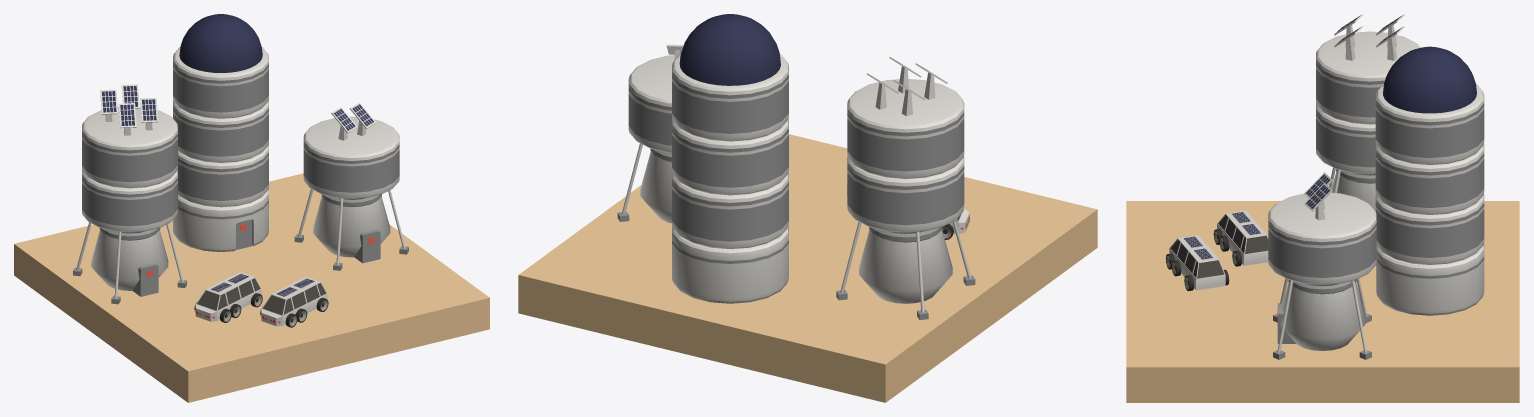
File: 00 Space_14.FBX
3 views of the same model, side by side, from view 1: azimuth 30°, elevation 25°; view 2: azimuth 150°, elevation 25°; view 3: azimuth 270°, elevation 25° (orthographic). The views are drawn at different scales.
Visible parts, largest first — view 1: Box001, Cylinder036, Cylinder048, Cylinder042, Box042, Box167; view 2: Box001, Cylinder036, Cylinder048, Cylinder042; view 3: Box001, Cylinder036, Cylinder042, Cylinder048, Box167, Box042.
Boxes of the visible parts, x1=… form: Box001: x1=14, y1=173, x2=489, y2=402; Cylinder036: x1=173, y1=14, x2=268, y2=251; Cylinder048: x1=73, y1=84, x2=186, y2=304; Cylinder042: x1=294, y1=102, x2=408, y2=270; Box042: x1=194, y1=272, x2=262, y2=322; Box167: x1=260, y1=276, x2=328, y2=327; Box001: x1=518, y1=134, x2=1097, y2=402; Cylinder036: x1=672, y1=14, x2=788, y2=303; Cylinder048: x1=836, y1=57, x2=975, y2=319; Cylinder042: x1=617, y1=44, x2=683, y2=223; Box001: x1=1126, y1=201, x2=1519, y2=402; Cylinder036: x1=1375, y1=46, x2=1484, y2=315; Cylinder042: x1=1268, y1=172, x2=1376, y2=359; Cylinder048: x1=1316, y1=14, x2=1420, y2=210; Box167: x1=1165, y1=235, x2=1229, y2=291; Box042: x1=1213, y1=210, x2=1268, y2=266.
Size of the model in its own units: 10000 by 7787 by 10000.
